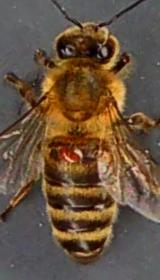varroa_mite: (54, 141, 90, 164)
